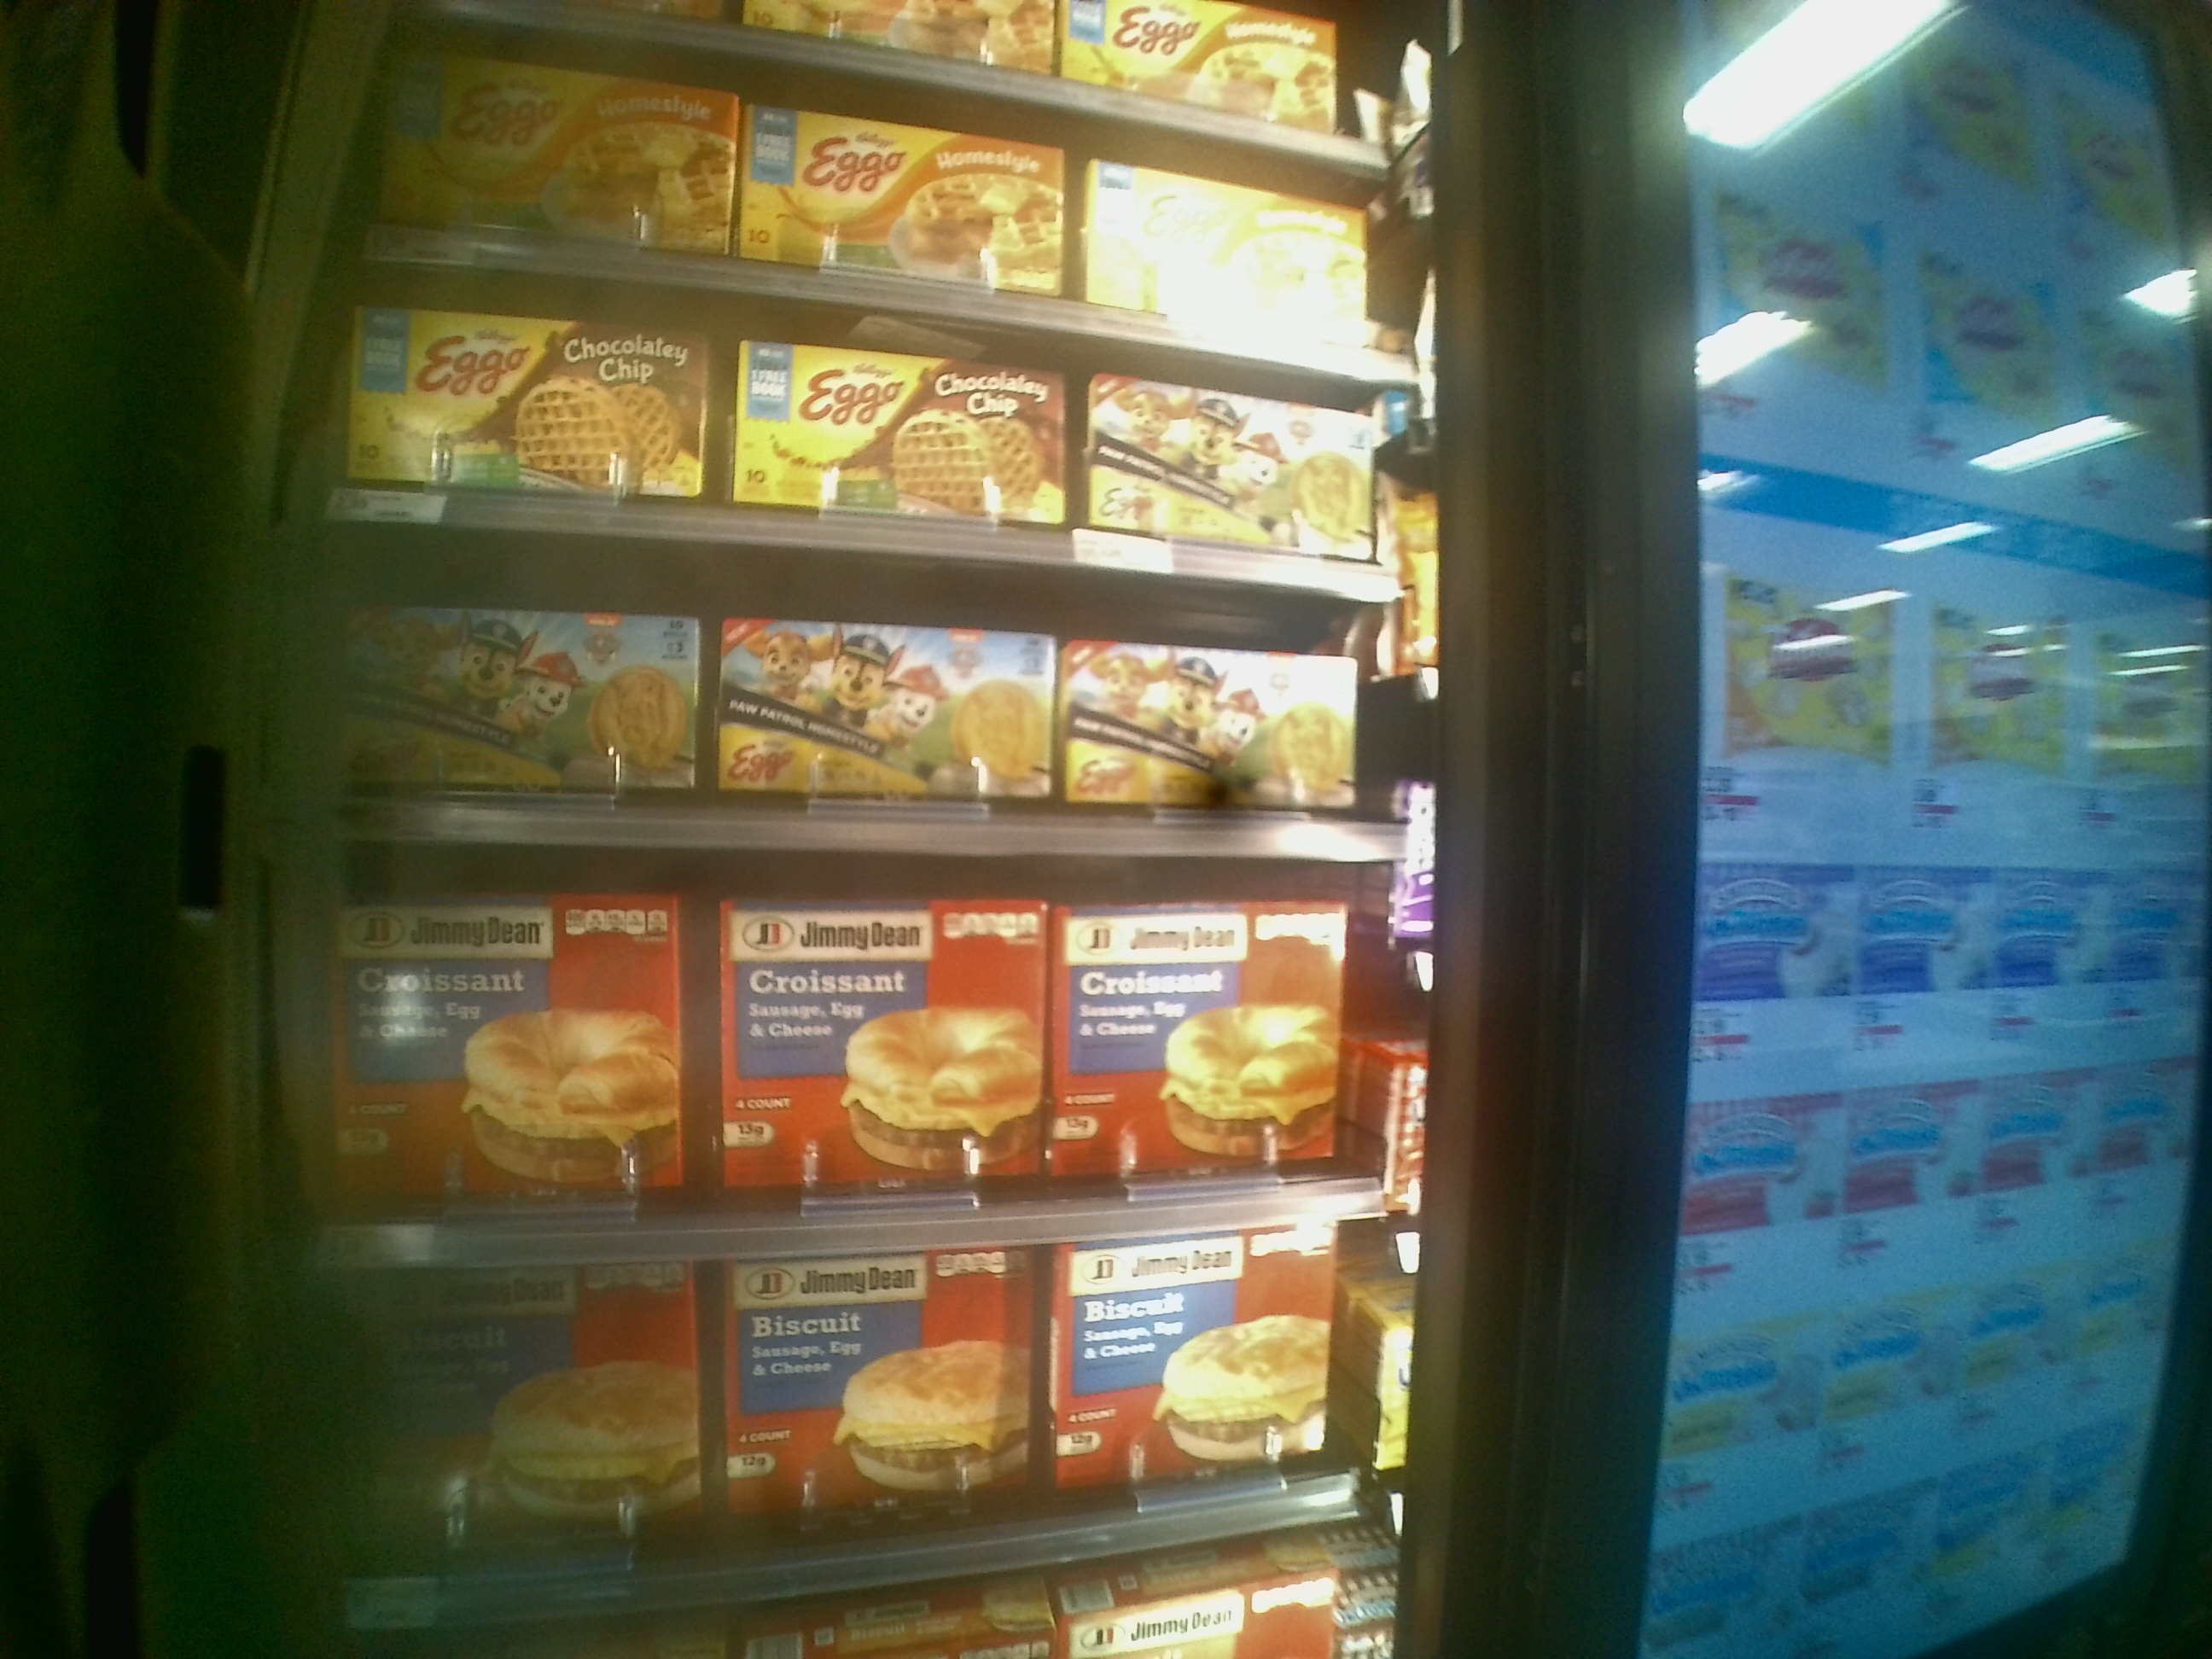shelf: (308, 852, 1399, 1269), (334, 237, 1425, 592), (314, 512, 1411, 857)
